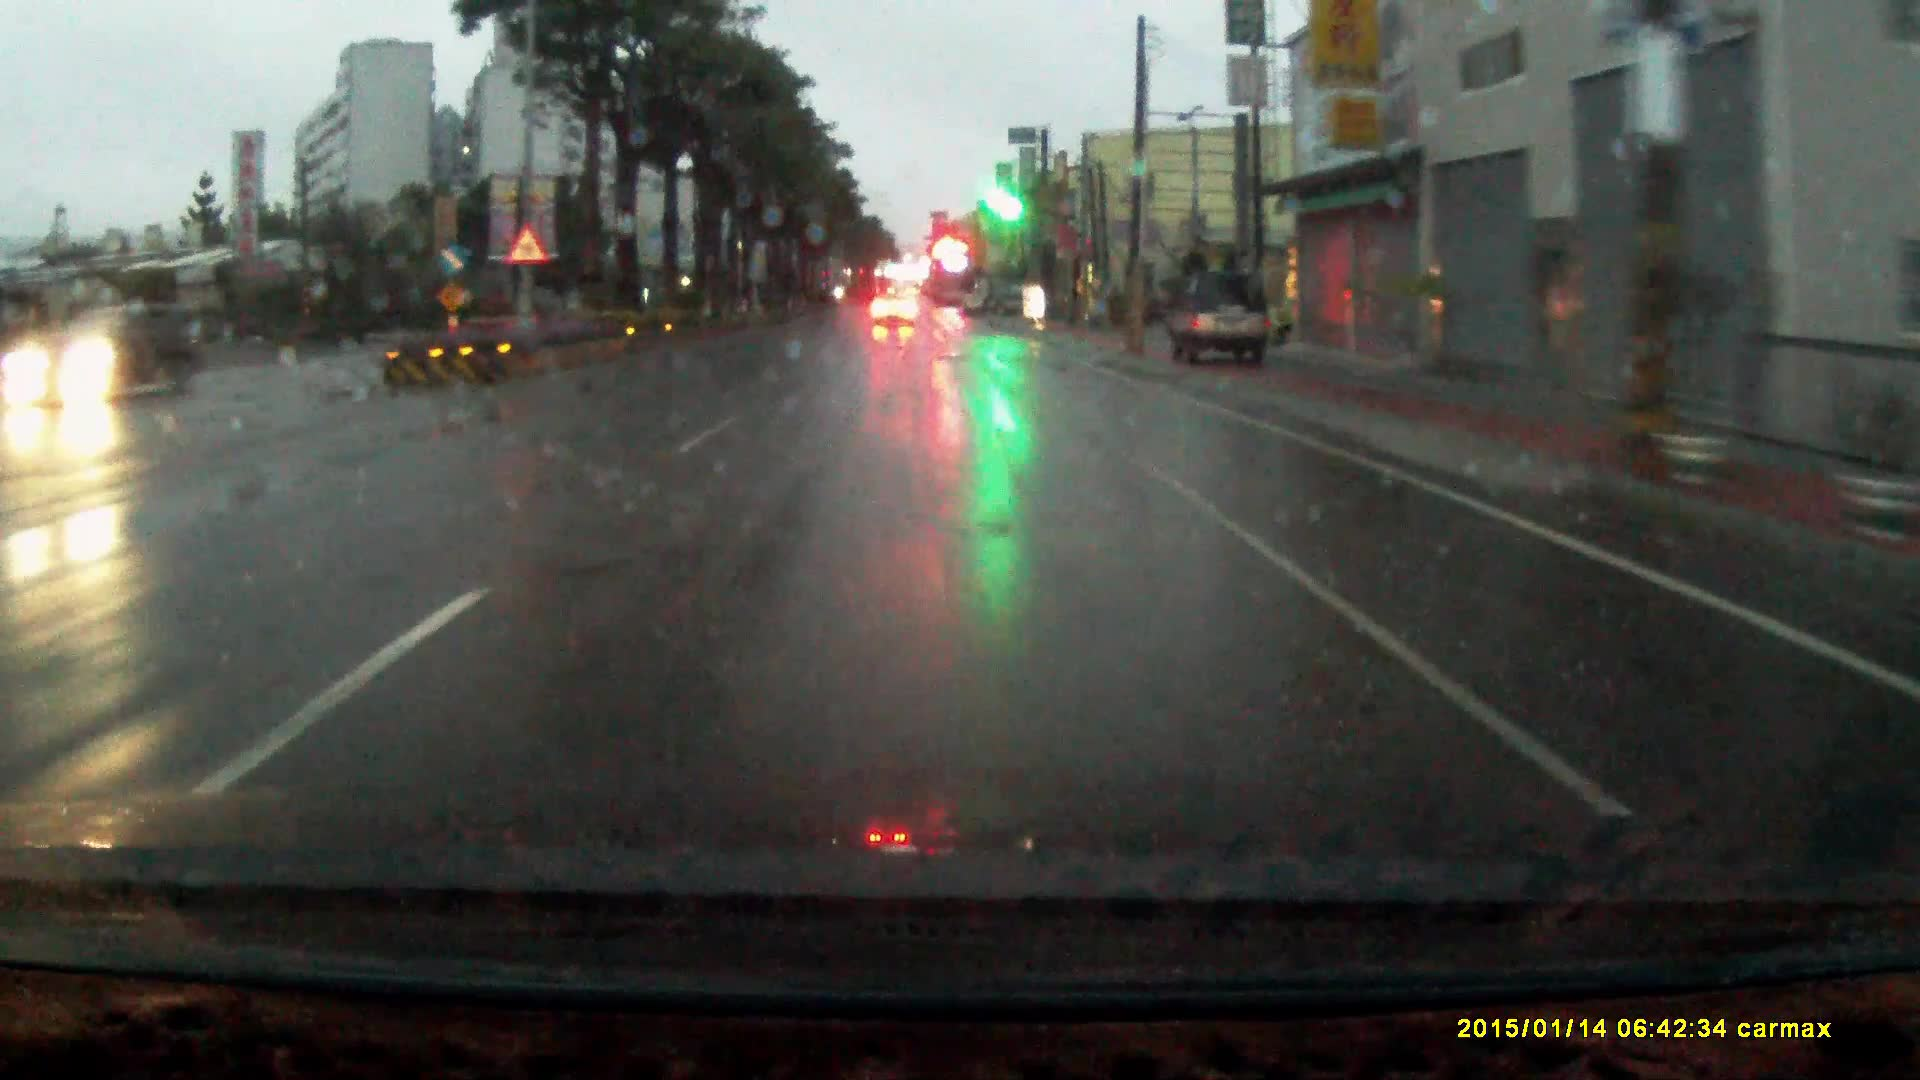vehicle: (7, 302, 187, 411), (1166, 261, 1276, 364), (872, 295, 916, 334)
